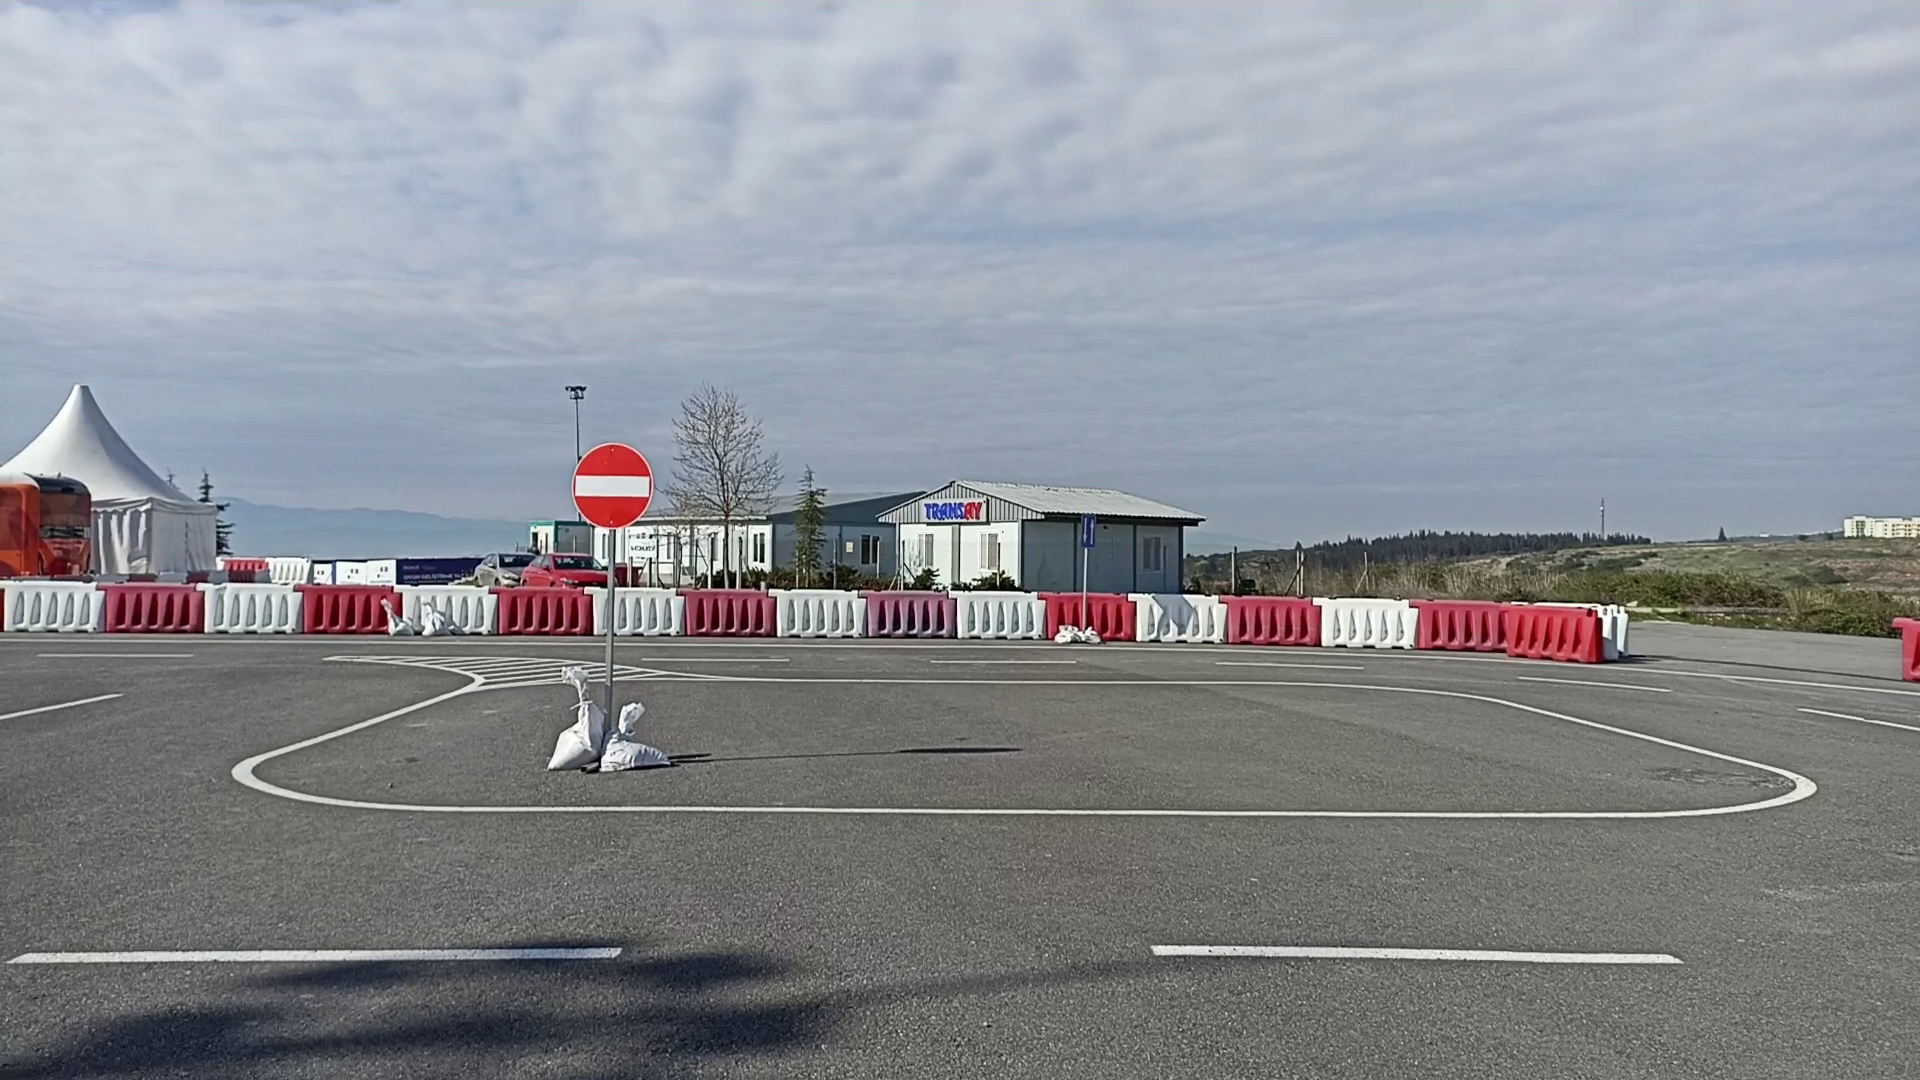noentryway: (570, 440, 655, 531)
